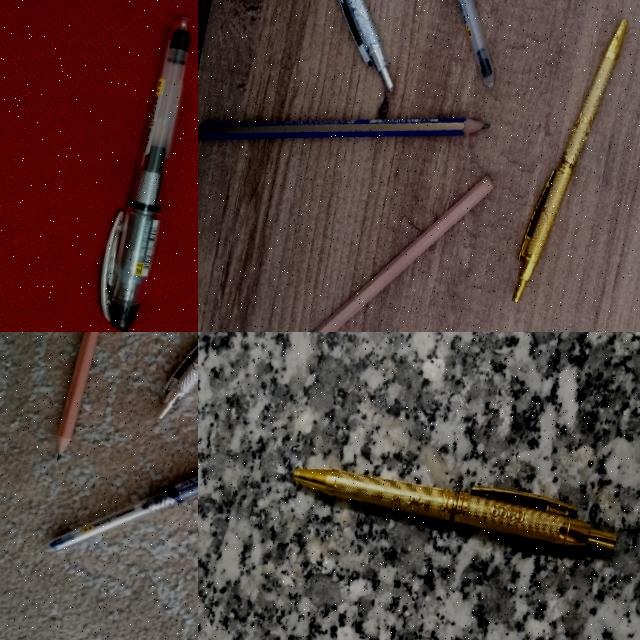pen: (103, 16, 193, 331), (50, 415, 198, 587), (454, 0, 497, 92)
pencil: (310, 173, 497, 332), (55, 332, 134, 461), (198, 112, 490, 142)
signature pen: (513, 12, 630, 316), (293, 468, 615, 549), (338, 0, 397, 94)
